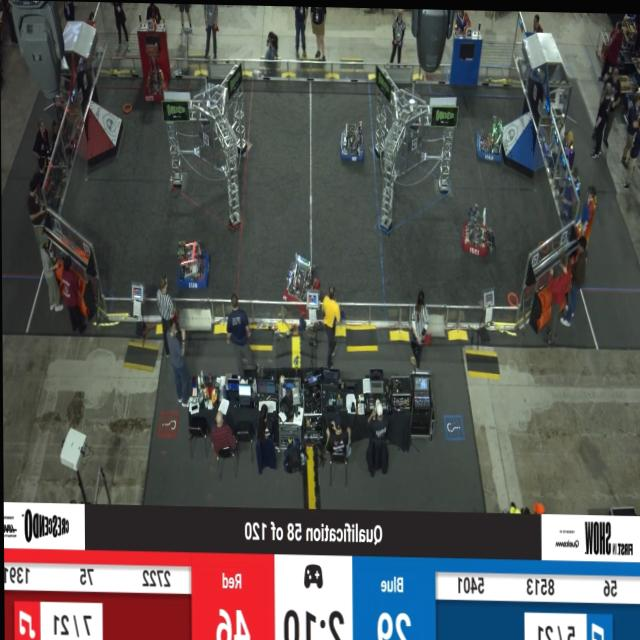Robot: (279, 246, 321, 315), (138, 28, 168, 105), (458, 198, 493, 257), (177, 235, 213, 291), (474, 115, 506, 164), (338, 117, 364, 165)
